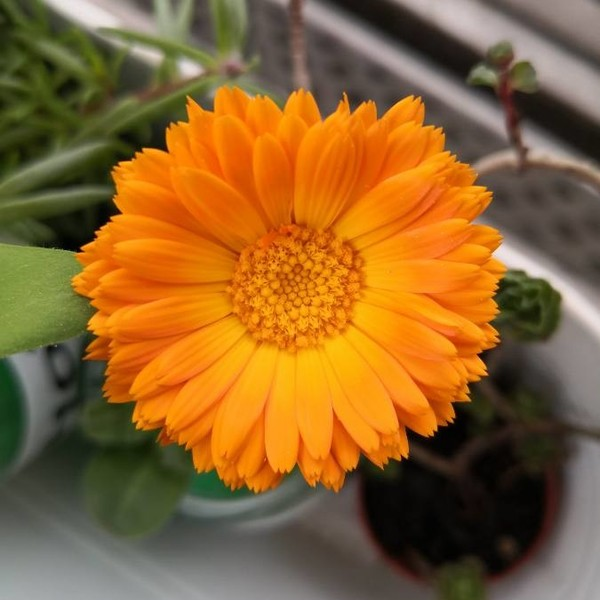obstacle: (40, 70, 529, 490)
